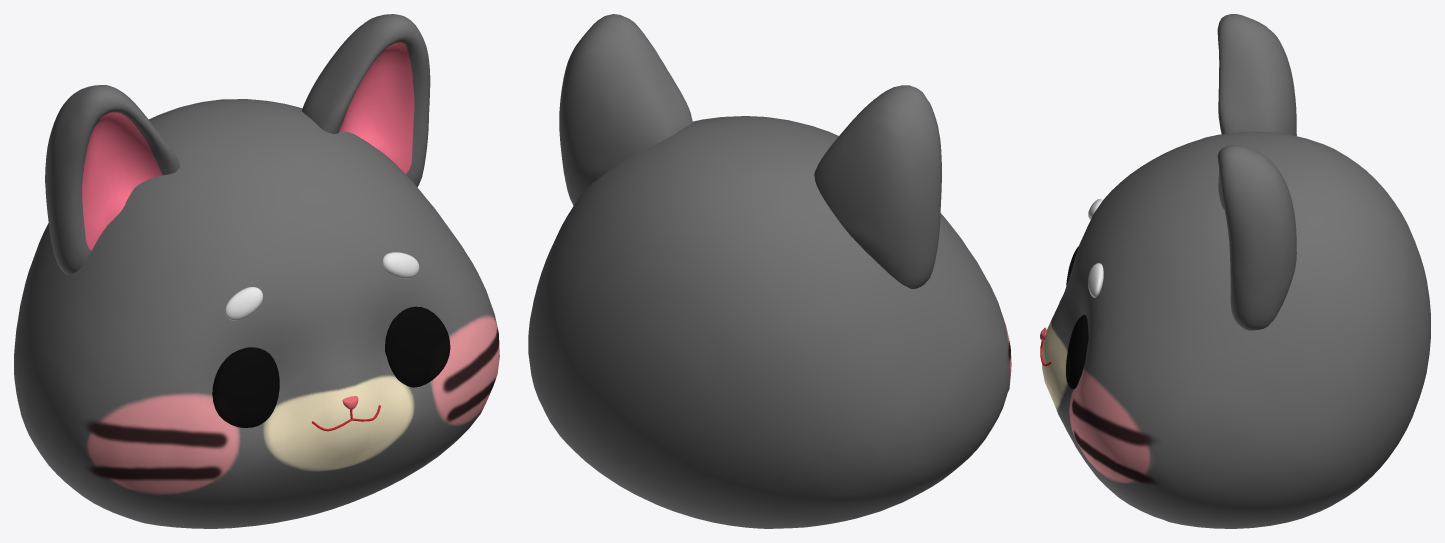
The model's file is cat.glb.
The picture shows the model from 3 angles, left to right: view 1: azimuth 30°, elevation 25°; view 2: azimuth 150°, elevation 25°; view 3: azimuth 270°, elevation 25°; orthographic projection. The views are drawn at different scales.
Visible parts, largest first — view 1: head, ear, eye, eyebrow.001; view 2: head, ear; view 3: head, ear, eye, eyebrow.001.
Boxes of the visible parts, <box> form: head: <box>14,99,499,528</box>; ear: <box>45,14,430,274</box>; eye: <box>212,306,450,427</box>; eyebrow.001: <box>225,252,419,320</box>; head: <box>528,116,1011,528</box>; ear: <box>559,14,941,288</box>; head: <box>1042,131,1430,528</box>; ear: <box>1217,14,1296,330</box>; eye: <box>1066,246,1088,389</box>; eyebrow.001: <box>1088,199,1103,297</box>.
Size of the model in its own units: 0.5992 by 0.6063 by 0.5188.
Materials: 6 (2 with a texture image).
